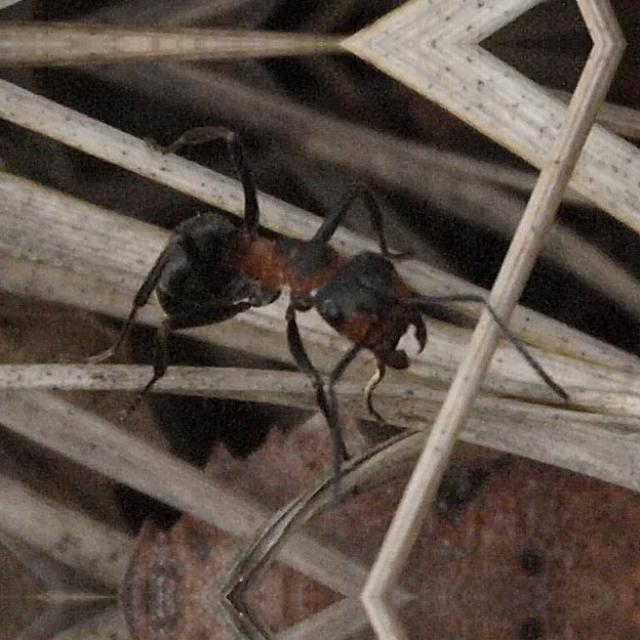Formica: (100, 102, 508, 434)
